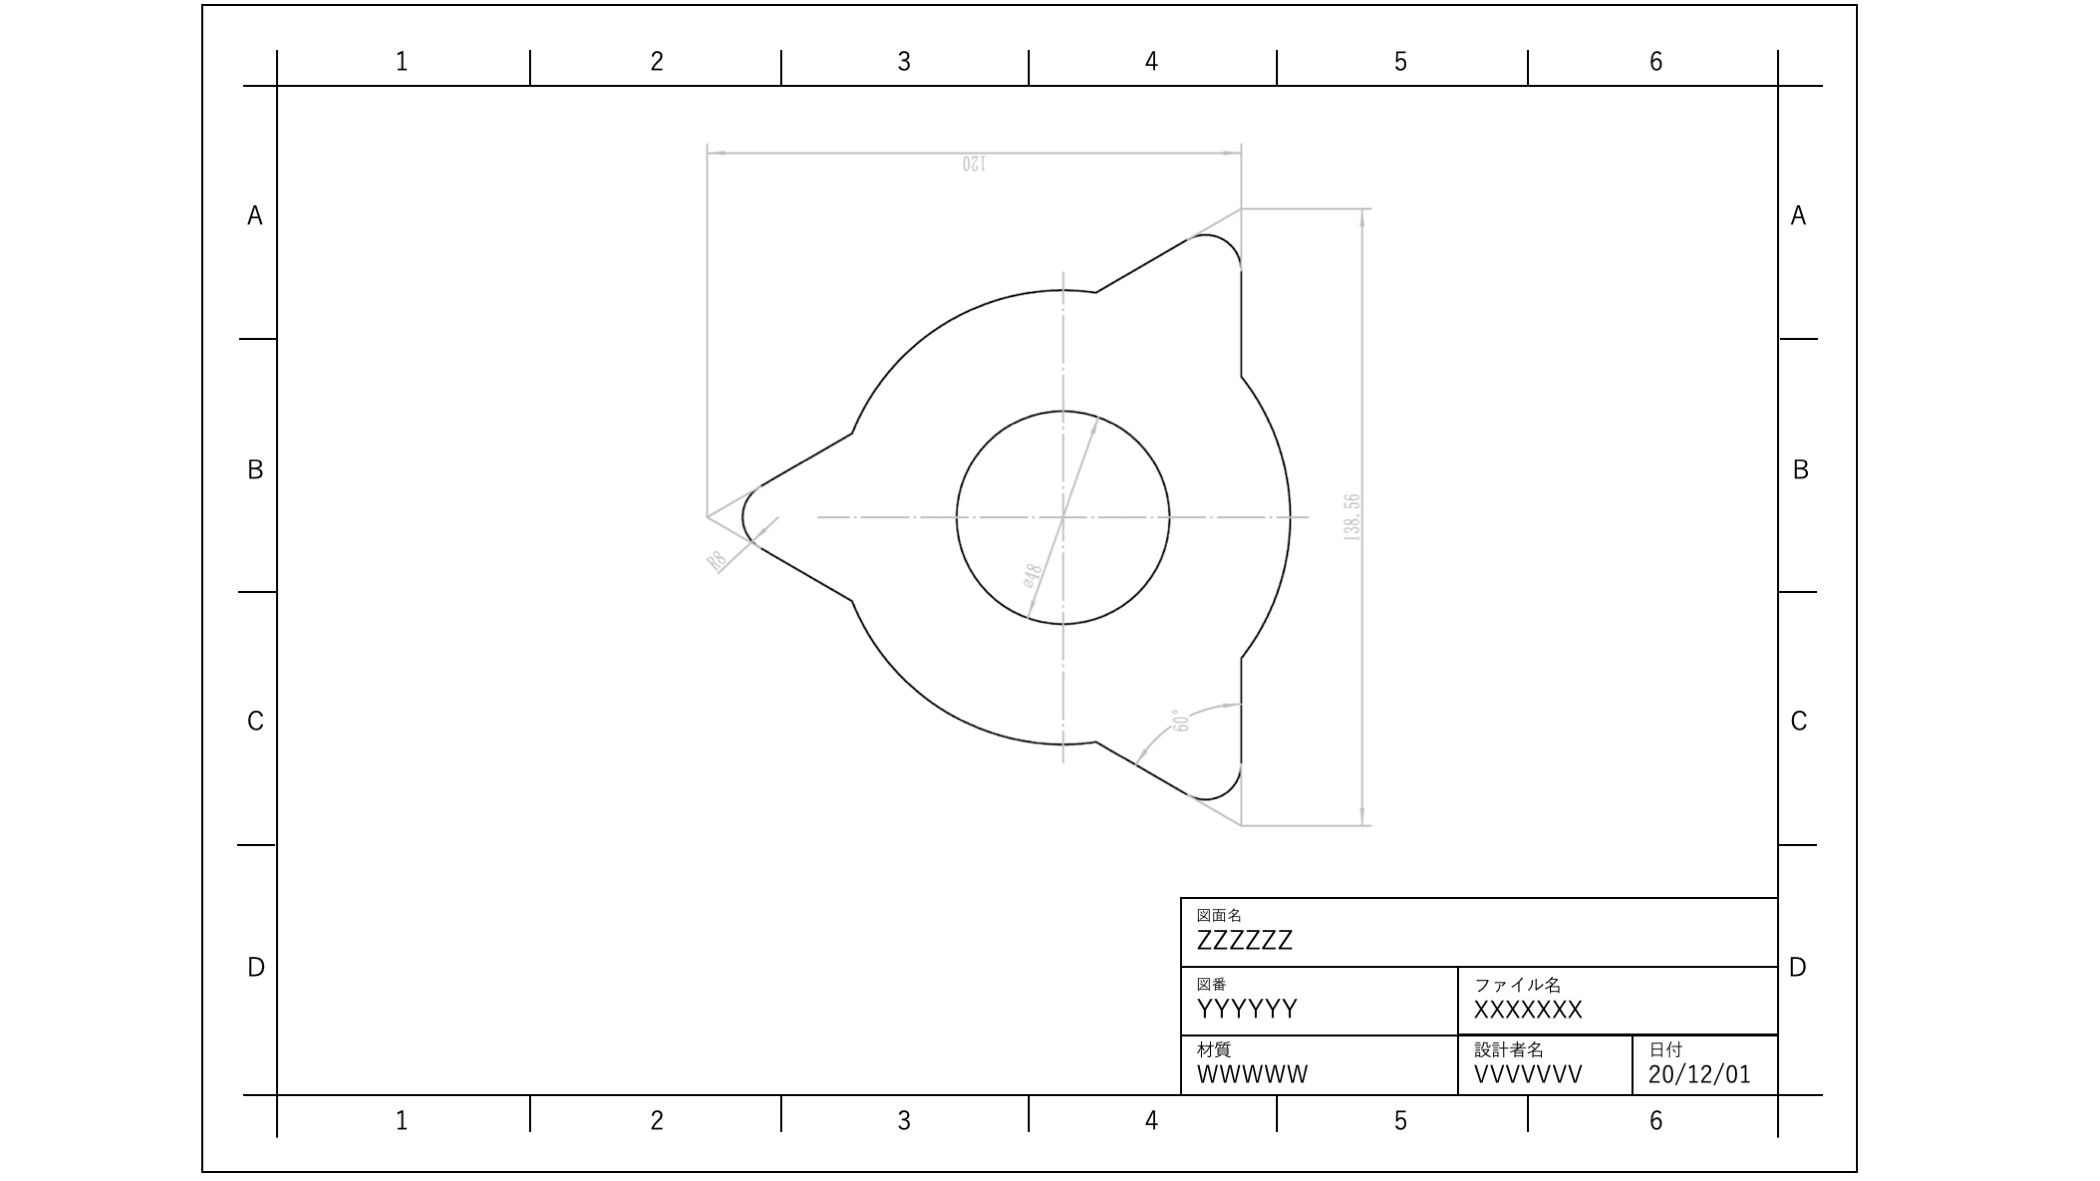circle: (950, 404, 1173, 632)
